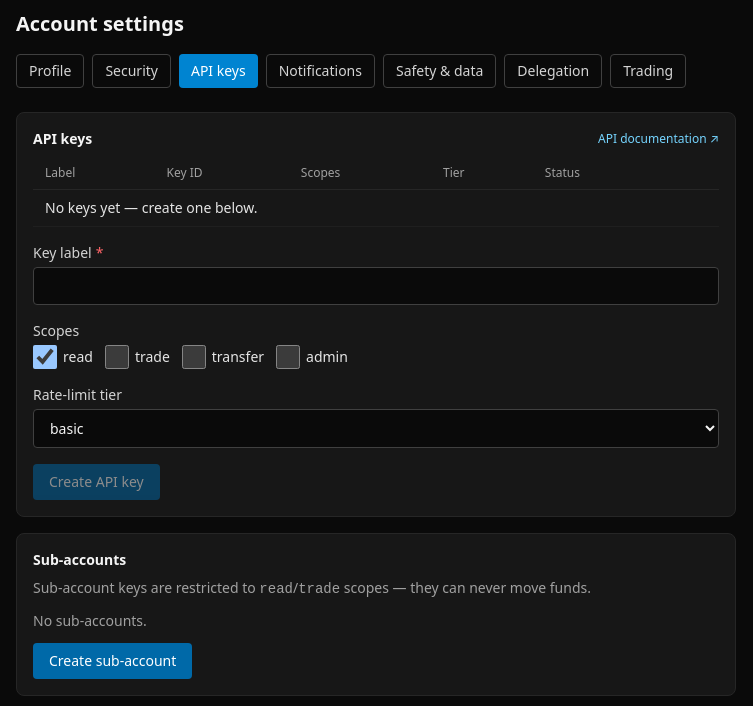
Test case: ApiKeysPanel › creates a key and shows the one-time secret
Type "bot" into the field labelled "Key label*". click: (376, 286)
box: [33,267,719,305]
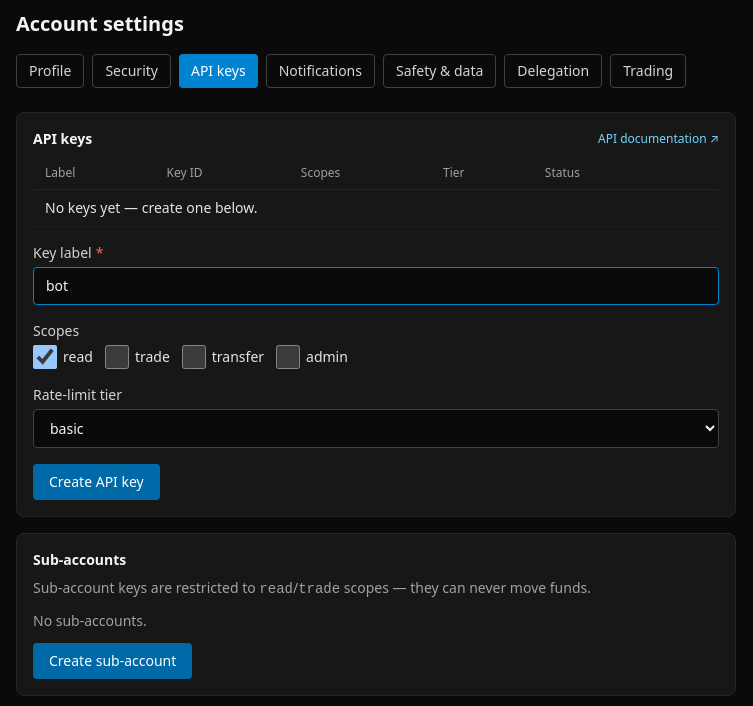
Click the button "Create API key". click: (96, 482)
box: [33,464,160,500]
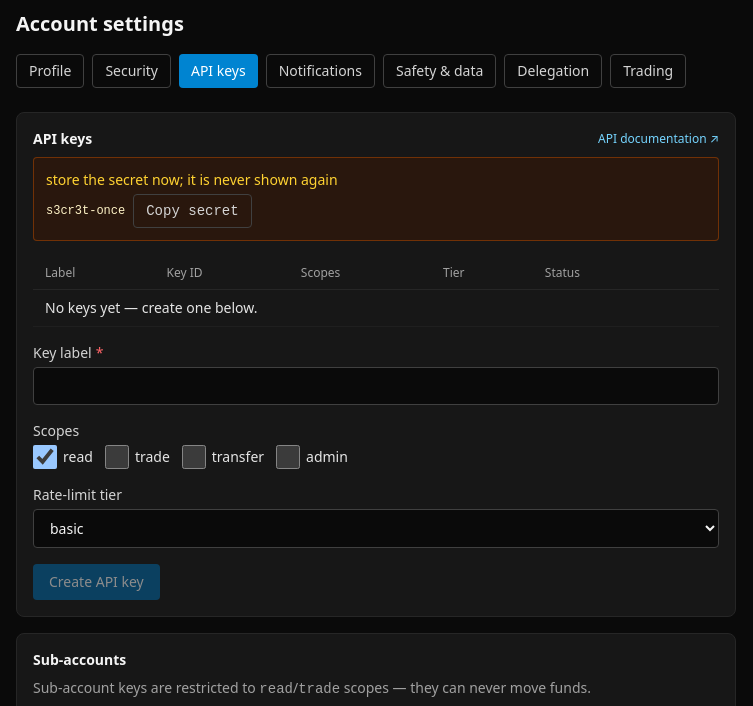
Expected: the text "s3cr3t-once" is shown, [46,204,125,218]
